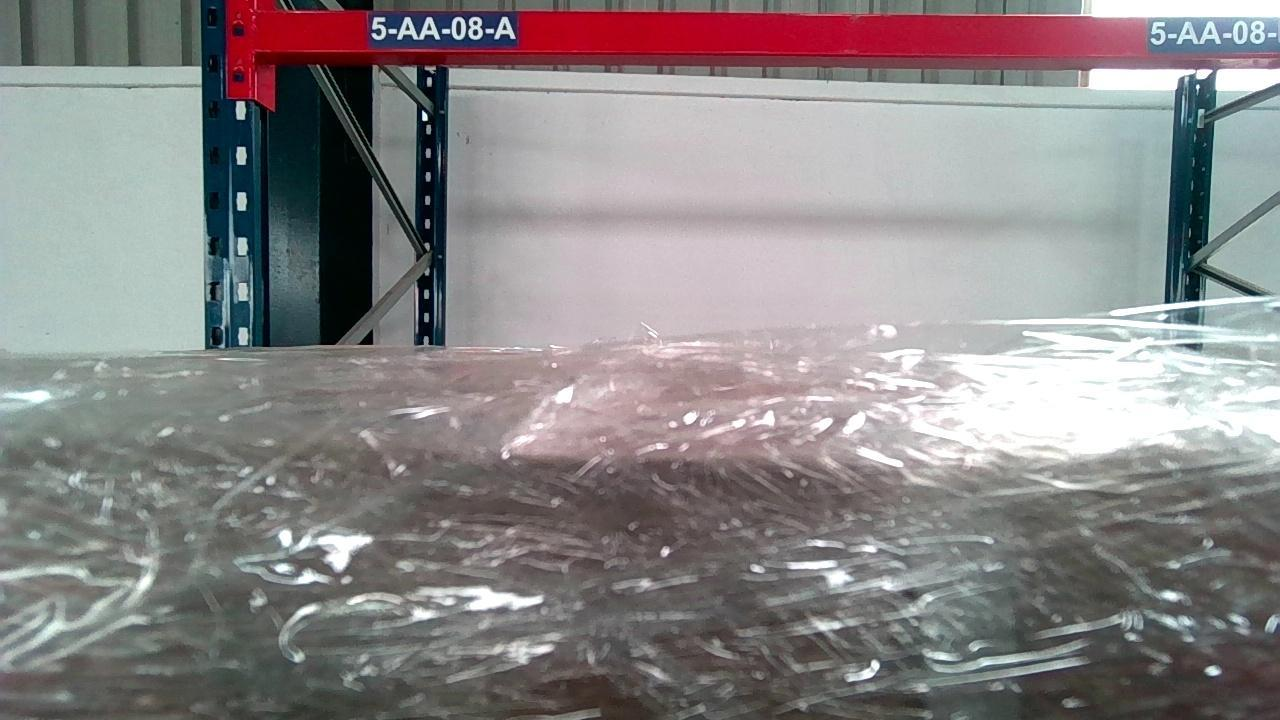h_rack: (257, 6, 1280, 58)
